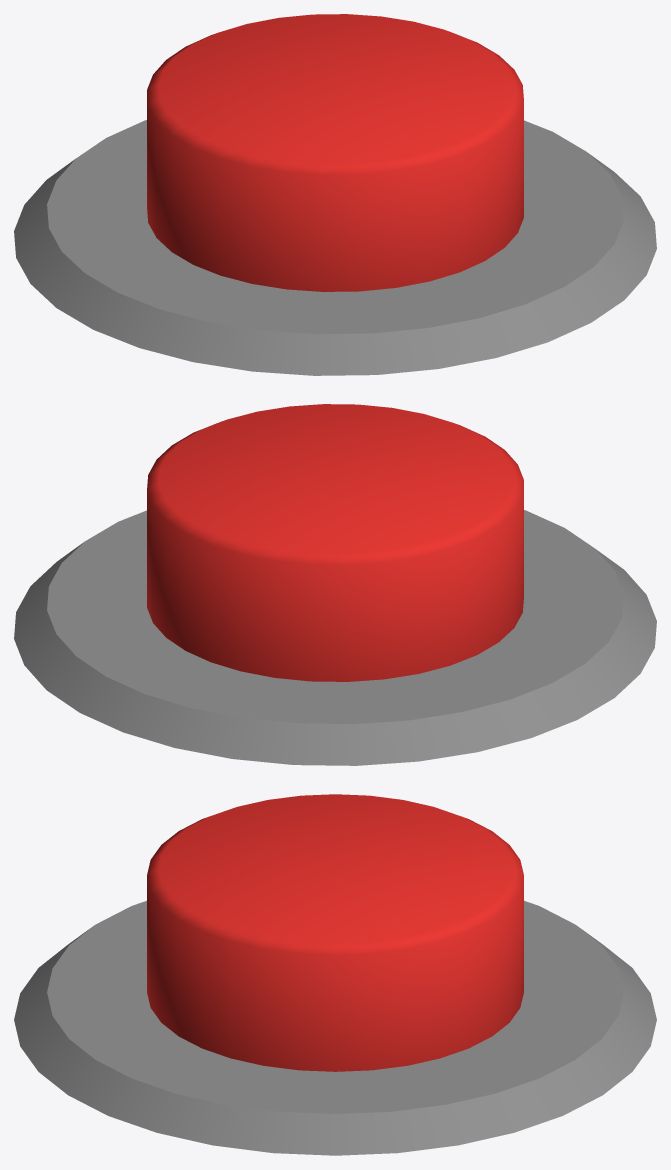
File: button.fbx
3 views of the same model, one above another, from view 1: azimuth 30°, elevation 25°; view 2: azimuth 150°, elevation 25°; view 3: azimuth 270°, elevation 25° (orthographic).
Parts seen in each view (by area): view 1: Big Button; view 2: Big Button; view 3: Big Button.
Part boxes in pixels (x1,y1,x2,y2): Big Button: (14, 14, 656, 375); Big Button: (14, 404, 656, 765); Big Button: (14, 794, 656, 1155).
Size of the model in its own units: 30.39 by 30.39 by 7.87.
